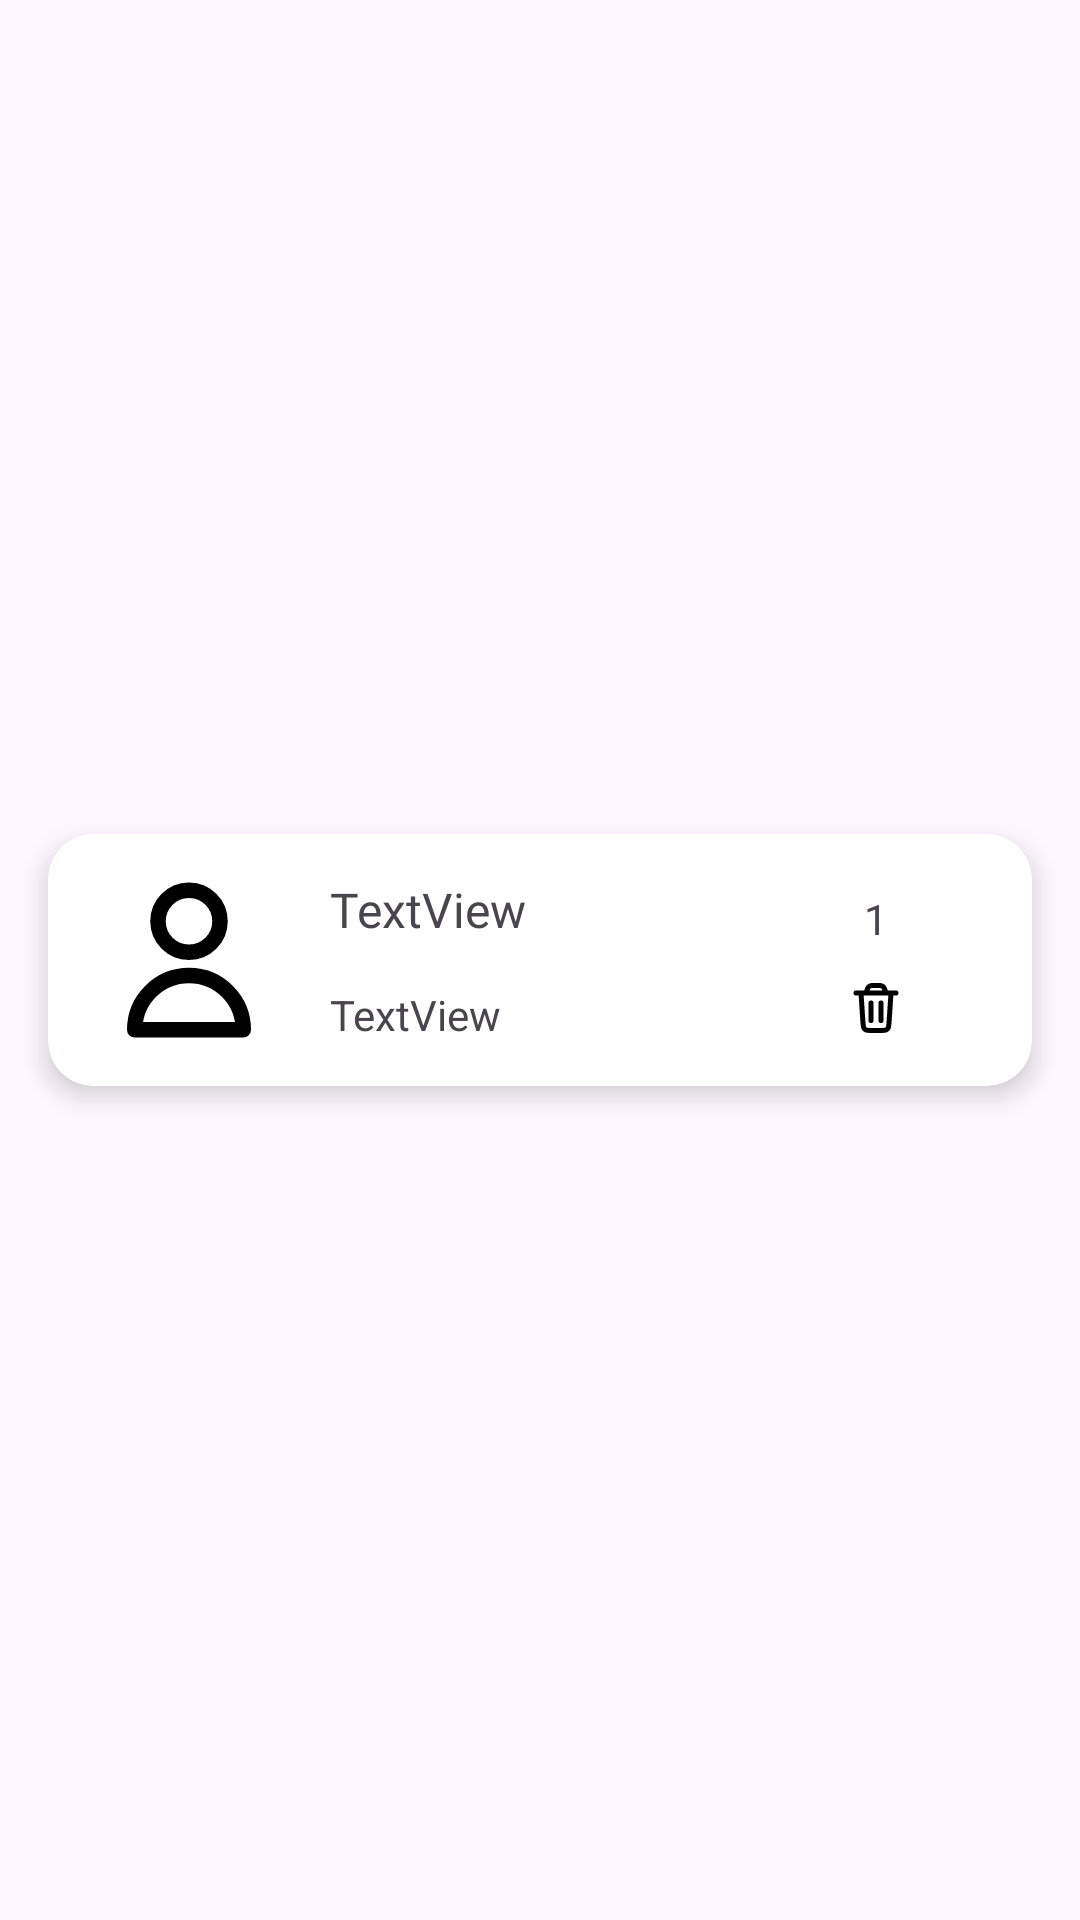

Point at icon controls on the screen. Image size 1080px×1920px, points as [x,y].
trash: [876,1008]
user: [189,960]
